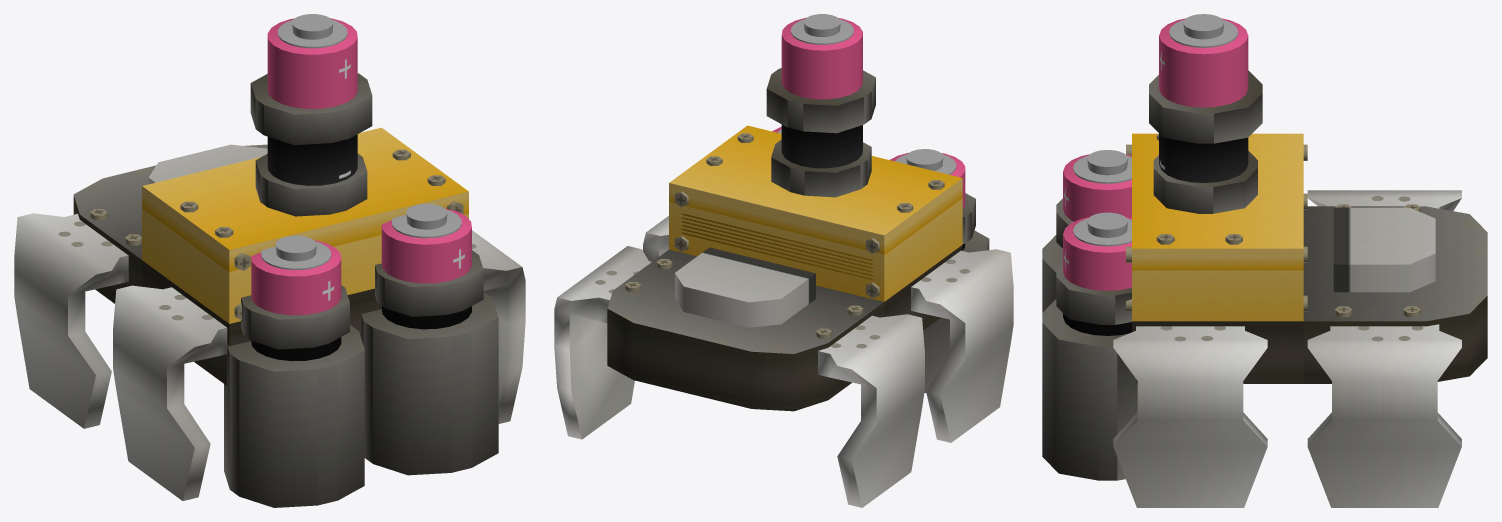
File: ChargingStationHand.fbx
3 views of the same model, side by side, from view 1: azimuth 30°, elevation 25°; view 2: azimuth 150°, elevation 25°; view 3: azimuth 270°, elevation 25° (orthographic). The views are drawn at different scales.
Visible parts, largest first — view 1: Furnace (1), Battery (7), Battery (6), Battery (5); view 2: Furnace (1), Battery (7), Battery (5); view 3: Furnace (1), Battery (7), Battery (6), Battery (5).
Boxes of the visible parts, box(x1,y1,x2,y2) form: Furnace (1): box(14, 73, 525, 507); Battery (7): box(267, 14, 357, 185); Battery (6): box(381, 204, 471, 329); Battery (5): box(251, 235, 341, 360); Furnace (1): box(554, 68, 1013, 507); Battery (7): box(781, 14, 862, 168); Battery (5): box(890, 149, 965, 249); Furnace (1): box(1042, 70, 1487, 507); Battery (7): box(1159, 14, 1248, 182); Battery (6): box(1063, 212, 1131, 335); Battery (5): box(1063, 150, 1131, 221).
Size of the model in its own units: 0.5387 by 0.5935 by 0.5888.
2 materials, 2 textured.
